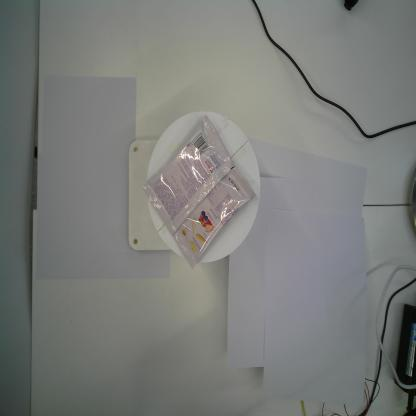Instant Drink: (143, 115, 256, 271)
